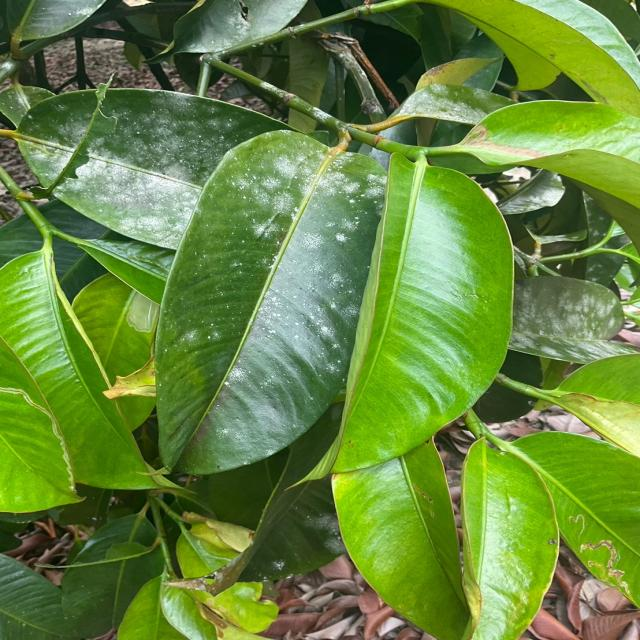Leaf Spot: (42, 101, 245, 216), (239, 149, 398, 252), (184, 293, 268, 420)
